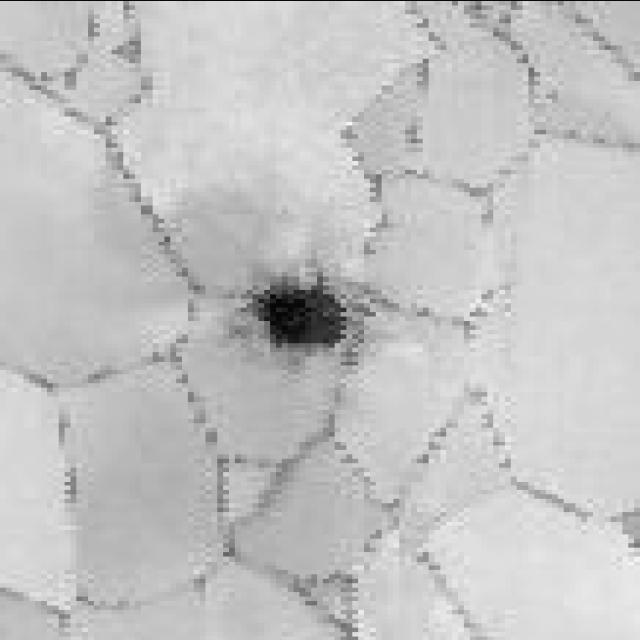good_void: (227, 268, 364, 368)
